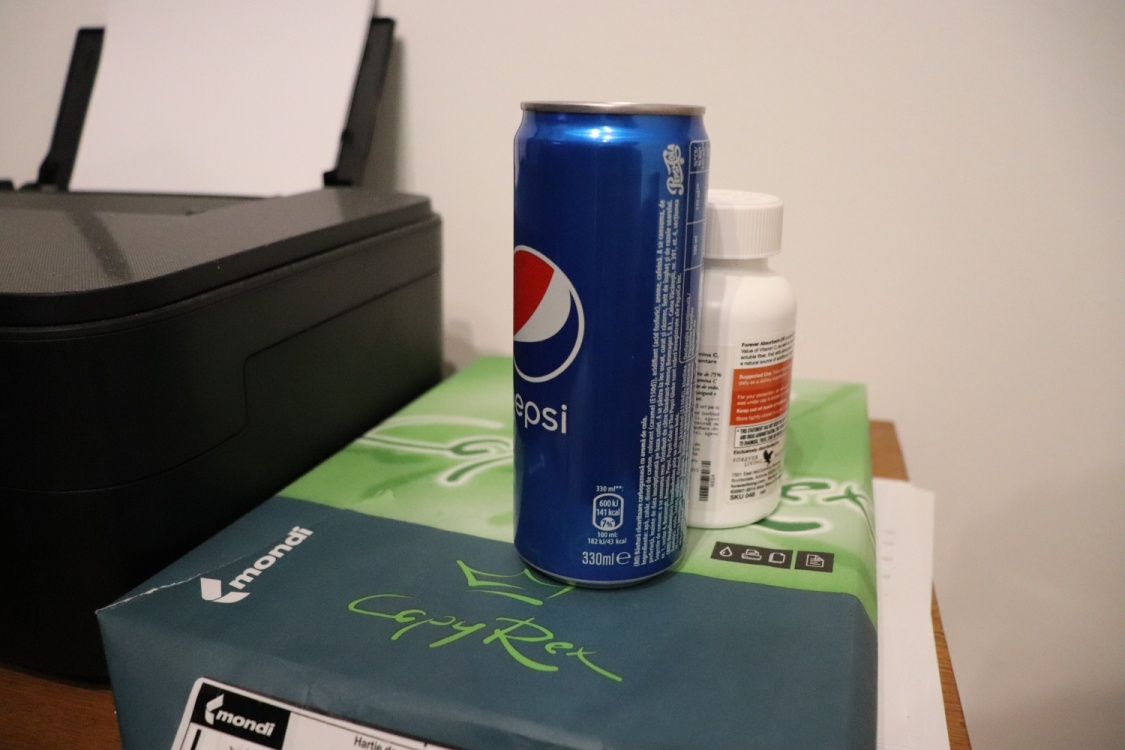pepsi: (506, 96, 714, 593)
